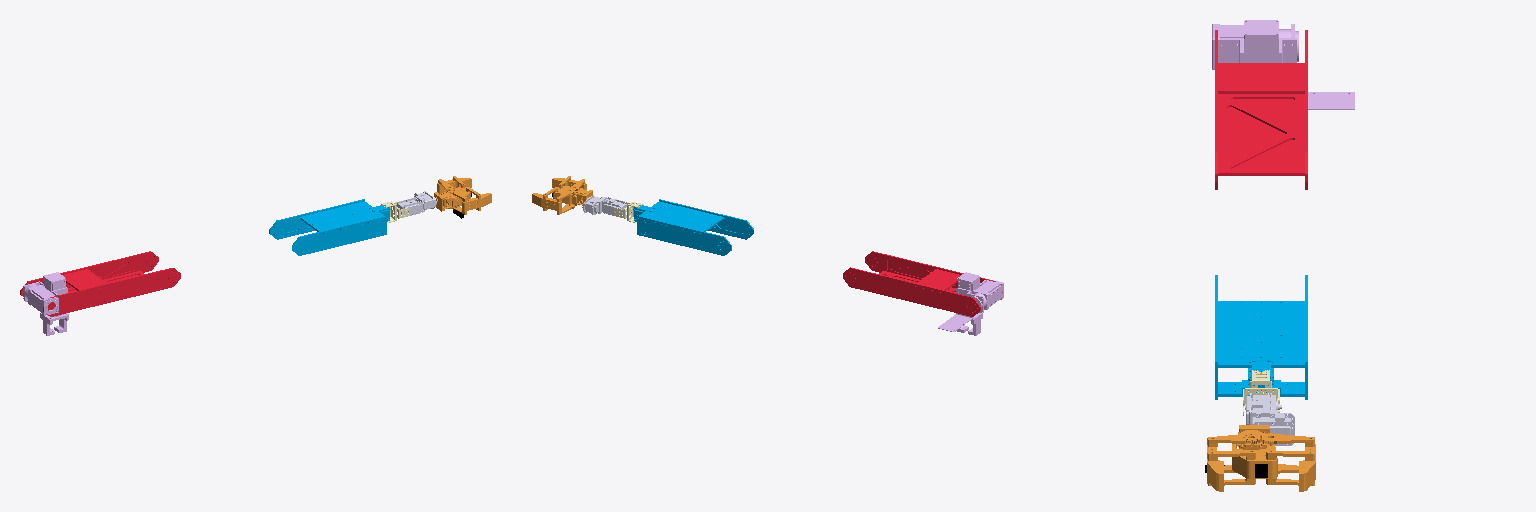
The robot description file, URDF, robot "doppel":
<?xml version="1.0" ?>
<!-- =================================================================================== -->
<!-- |    This document was autogenerated by xacro from [local-path]/ros/workspaces/kinetic/quix/src/doppel_description/urdf/doppel_robot.urdf.xacro | -->
<!-- |    EDITING THIS FILE BY HAND IS NOT RECOMMENDED                                 | -->
<!-- =================================================================================== -->
<robot name="doppel" xmlns:xacro="http://ros.org/wiki/xacro">
  <material name="Black">
    <color rgba="0.0 0.0 0.0 1.0"/>
  </material>
  <material name="Blue">
    <color rgba="0.0 0.0 0.8 1.0"/>
  </material>
  <material name="Green">
    <color rgba="0.0 0.8 0.0 1.0"/>
  </material>
  <material name="Grey">
    <color rgba="0.5 0.5 0.5 1.0"/>
  </material>
  <material name="LightGrey">
    <color rgba="0.7 0.7 0.7 1.0"/>
  </material>
  <material name="DarkGrey">
    <color rgba="0.3 0.3 0.3 1.0"/>
  </material>
  <material name="SlateGrey">
    <color rgba="0.44 0.5 0.56 1.0"/>
  </material>
  <material name="SteelBlue">
    <color rgba="0.27 0.51 0.71 1.0"/>
  </material>
  <material name="LightSteelBlue">
    <color rgba="0.69 0.77 0.87 1.0"/>
  </material>
  <material name="Lavender">
    <color rgba="0.9 0.9 0.98 1.0"/>
  </material>
  <material name="Red">
    <color rgba="1.0 0.0 0.0 1.0"/>
  </material>
  <material name="Orange">
    <color rgba="1.0 0.5088 0.0468 1.0"/>
  </material>
  <material name="Magenta">
    <color rgba="1.0 0.0 1.0 1.0"/>
  </material>
  <material name="White">
    <color rgba="1.0 1.0 1.0 1.0"/>
  </material>
  <material name="Yellow">
    <color rgba="0.8 0.8 0.0 1.0"/>
  </material>
  <material name="DeepSkyBlue">
    <color rgba="0.0 0.749 1.0 1.0"/>
  </material>
  <material name="LightBlueGreen">
    <color rgba="0.49411764705882355 0.984313725490196 0.7019607843137254 1.0"/>
  </material>
  <material name="LightishRed">
    <color rgba="0.996078431372549 0.1843137254901961 0.2901960784313726 1.0"/>
  </material>
  <material name="Leaf">
    <color rgba="0.44313725490196076 0.6666666666666666 0.20392156862745098 1.0"/>
  </material>
  <material name="Pale">
    <color rgba="1.0 0.9764705882352941 0.8156862745098039 1.0"/>
  </material>
  <material name="LightOrange">
    <color rgba="0.9921568627450981 0.6666666666666666 0.2823529411764706 1.0"/>
  </material>
  <material name="LightLilac">
    <color rgba="0.9294117647058824 0.7843137254901961 1.0 1.0"/>
  </material>
  <link name="world"/>
  <joint name="world_joint" type="fixed">
    <origin rpy="0 0 0" xyz="0 0 0"/>
    <parent link="world"/>
    <child link="base_link"/>
  </joint>
  <gazebo>
    <plugin filename="libgazebo_ros_control.so" name="gazebo_ros_control">
      <robotNamespace>/</robotNamespace>
    </plugin>
  </gazebo>
  <link name="base_link">
    <inertial>
      <mass value="0.2337368"/>
      <origin xyz="0 0 0"/>
      <inertia ixx="0.00036578" ixy="0.0" ixz="0.0" iyy="0.00027028" iyz="0.0" izz="0.00019041"/>
    </inertial>
    <visual>
      <origin rpy="0 0 0" xyz="0 0 0"/>
      <geometry>
        <mesh filename="package://doppel_description/meshes/base.dae" scale="1 1 1"/>
      </geometry>
      <material name="LightLilac"/>
    </visual>
    <collision>
      <origin rpy="0 0 0" xyz="0 0 0"/>
      <geometry>
        <!-- TODO: Simpler collision shape -->
        <mesh filename="package://doppel_description/meshes/base.dae" scale="1 1 1"/>
      </geometry>
    </collision>
  </link>
  <gazebo reference="base_link">
    <mu1 value="0"/>
    <mu2 value="0"/>
    <kp value="1e8"/>
    <kd value="1.0"/>
    <fdir1 value="1 0 0"/>
    <minDepth>0.005</minDepth>
    <material>Gazebo/LightLilac</material>
    <turnGravityOff>false</turnGravityOff>
  </gazebo>
  <joint name="joint1" type="revolute">
    <parent link="base_link"/>
    <child link="link1"/>
    <origin rpy="0 0 3.14159265359" xyz="0 0 0.062"/>
    <axis xyz="0 0 1"/>
    <limit effort="44.7" lower="-3.14159265359" upper="3.14159265359" velocity="3.14159265359"/>
    <dynamics damping="1.0" friction="0.0"/>
  </joint>
  <transmission name="joint1_trans">
    <type>transmission_interface/SimpleTransmission</type>
    <joint name="joint1">
      <hardwareInterface>hardware_interface/PositionJointInterface</hardwareInterface>
    </joint>
    <actuator name="joint1_motor">
      <hardwareInterface>hardware_interface/PositionJointInterface</hardwareInterface>
      <mechanicalReduction>1</mechanicalReduction>
    </actuator>
  </transmission>
  <link name="link1">
    <inertial>
      <mass value="2.13134162"/>
      <origin xyz="0 0 0"/>
      <inertia ixx="0.01012037" ixy="0.00034081" ixz="0.00331148" iyy="0.01055121" iyz="0.00071657" izz="0.00237852"/>
    </inertial>
    <visual>
      <origin rpy="0 0 0" xyz="0 0 0"/>
      <geometry>
        <mesh filename="package://doppel_description/meshes/link1.dae" scale="1 1 1"/>
      </geometry>
      <material name="LightLilac"/>
    </visual>
    <collision>
      <origin rpy="0 0 0" xyz="0 0 0"/>
      <geometry>
        <!-- TODO: Simpler collision shape -->
        <mesh filename="package://doppel_description/meshes/link1.dae" scale="1 1 1"/>
      </geometry>
    </collision>
  </link>
  <gazebo reference="link1">
    <mu1 value="0"/>
    <mu2 value="0"/>
    <kp value="1e8"/>
    <kd value="1.0"/>
    <fdir1 value="1 0 0"/>
    <minDepth>0.005</minDepth>
    <material>Gazebo/LightLilac</material>
    <turnGravityOff>false</turnGravityOff>
  </gazebo>
  <joint name="joint2" type="revolute">
    <parent link="link1"/>
    <child link="link2"/>
    <origin rpy="-1.57079632679 0 3.14159265359" xyz="0.054 0 0.063"/>
    <axis xyz="0 0 1"/>
    <limit effort="44.7" lower="-3.14159265359" upper="0" velocity="3.14159265359"/>
    <dynamics damping="1.0" friction="0.0"/>
  </joint>
  <transmission name="joint2_trans">
    <type>transmission_interface/SimpleTransmission</type>
    <joint name="joint2">
      <hardwareInterface>hardware_interface/PositionJointInterface</hardwareInterface>
    </joint>
    <actuator name="joint2_motor">
      <hardwareInterface>hardware_interface/PositionJointInterface</hardwareInterface>
      <mechanicalReduction>1</mechanicalReduction>
    </actuator>
  </transmission>
  <link name="link2">
    <inertial>
      <mass value="1.14165583"/>
      <origin xyz="0.25 0 0"/>
      <inertia ixx="0.0045786" ixy="0.00179706" ixz="-2.524e-05" iyy="0.07792435" iyz="-1.69e-06" izz="0.07451121"/>
    </inertial>
    <visual>
      <origin rpy="0 0 0" xyz="0 0 0"/>
      <geometry>
        <mesh filename="package://doppel_description/meshes/link2.dae" scale="1 1 1"/>
      </geometry>
      <material name="LightishRed"/>
    </visual>
    <collision>
      <origin rpy="0 0 0" xyz="0 0 0"/>
      <geometry>
        <!-- TODO: Simpler collision shape -->
        <mesh filename="package://doppel_description/meshes/link2.dae" scale="1 1 1"/>
      </geometry>
    </collision>
  </link>
  <gazebo reference="link2">
    <mu1 value="0"/>
    <mu2 value="0"/>
    <kp value="1e8"/>
    <kd value="1.0"/>
    <fdir1 value="1 0 0"/>
    <minDepth>0.005</minDepth>
    <material>Gazebo/LightishRed</material>
    <turnGravityOff>false</turnGravityOff>
  </gazebo>
  <joint name="joint3" type="revolute">
    <parent link="link2"/>
    <child link="link3"/>
    <origin rpy="3.14159265359 0 0" xyz="0.435 0 0"/>
    <axis xyz="0 0 1"/>
    <limit effort="44.7" lower="-1.57079632679" upper="2.86" velocity="3.14159265359"/>
    <dynamics damping="1.0" friction="0.0"/>
  </joint>
  <transmission name="joint3_trans">
    <type>transmission_interface/SimpleTransmission</type>
    <joint name="joint3">
      <hardwareInterface>hardware_interface/PositionJointInterface</hardwareInterface>
    </joint>
    <actuator name="joint3_motor">
      <hardwareInterface>hardware_interface/PositionJointInterface</hardwareInterface>
      <mechanicalReduction>1</mechanicalReduction>
    </actuator>
  </transmission>
  <link name="link3">
    <inertial>
      <mass value="2.79024721"/>
      <origin xyz="0.25 0 0"/>
      <inertia ixx="0.00124106" ixy="0.0" ixz="0.00196671" iyy="0.16340234" iyz="0.0" izz="0.16349435"/>
    </inertial>
    <visual>
      <origin rpy="3.14159265359 0 0" xyz="0 0 0"/>
      <geometry>
        <mesh filename="package://doppel_description/meshes/link3.dae" scale="1 1 1"/>
      </geometry>
      <material name="Leaf"/>
    </visual>
    <collision>
      <origin rpy="3.14159265359 0 0" xyz="0 0 0"/>
      <geometry>
        <!-- TODO: Simpler collision shape -->
        <mesh filename="package://doppel_description/meshes/link3.dae" scale="1 1 1"/>
      </geometry>
    </collision>
  </link>
  <gazebo reference="link3">
    <mu1 value="0"/>
    <mu2 value="0"/>
    <kp value="1e8"/>
    <kd value="1.0"/>
    <fdir1 value="1 0 0"/>
    <minDepth>0.005</minDepth>
    <material>Gazebo/Leaf</material>
    <turnGravityOff>false</turnGravityOff>
  </gazebo>
  <joint name="joint4" type="revolute">
    <parent link="link3"/>
    <child link="link4"/>
    <origin rpy="3.14159265359 0 0" xyz="0.450 0 0"/>
    <axis xyz="0 0 1"/>
    <limit effort="44.7" lower="-2.33" upper="2.86" velocity="3.14159265359"/>
    <dynamics damping="1.0" friction="0.0"/>
  </joint>
  <transmission name="joint4_trans">
    <type>transmission_interface/SimpleTransmission</type>
    <joint name="joint4">
      <hardwareInterface>hardware_interface/PositionJointInterface</hardwareInterface>
    </joint>
    <actuator name="joint4_motor">
      <hardwareInterface>hardware_interface/PositionJointInterface</hardwareInterface>
      <mechanicalReduction>1</mechanicalReduction>
    </actuator>
  </transmission>
  <link name="link4">
    <inertial>
      <mass value="2.18514241"/>
      <origin xyz="0.15 0 0"/>
      <inertia ixx="0.00816433" ixy="-0.01841775" ixz="2.52e-06" iyy="0.10879096" iyz="0.0" izz="0.11044867"/>
    </inertial>
    <visual>
      <origin rpy="0 0 0" xyz="0 0 0"/>
      <geometry>
        <mesh filename="package://doppel_description/meshes/link4.dae" scale="1 1 1"/>
      </geometry>
      <material name="DeepSkyBlue"/>
    </visual>
    <collision>
      <origin rpy="0 0 0" xyz="0 0 0"/>
      <geometry>
        <!-- TODO: Simpler collision shape -->
        <mesh filename="package://doppel_description/meshes/link4.dae" scale="1 1 1"/>
      </geometry>
    </collision>
  </link>
  <gazebo reference="link4">
    <mu1 value="0"/>
    <mu2 value="0"/>
    <kp value="1e8"/>
    <kd value="1.0"/>
    <fdir1 value="1 0 0"/>
    <minDepth>0.005</minDepth>
    <material>Gazebo/DeepSkyBlue</material>
    <turnGravityOff>false</turnGravityOff>
  </gazebo>
  <joint name="velodyne_base_mount_joint" type="fixed">
    <origin rpy="1.57079632679 0 0" xyz="0.23 -0.03 0"/>
    <parent link="link4"/>
    <child link="velodyne_base_link"/>
  </joint>
  <link name="velodyne_base_link">
    <inertial>
      <mass value="0.83"/>
      <origin xyz="0 0 0.03585"/>
      <inertia ixx="0.000908059425" ixy="0" ixz="0" iyy="0.000908059425" iyz="0" izz="0.0011049624"/>
    </inertial>
    <visual>
      <geometry>
        <mesh filename="package://velodyne_description/meshes/VLP16_base_1.dae"/>
      </geometry>
    </visual>
    <visual>
      <geometry>
        <mesh filename="package://velodyne_description/meshes/VLP16_base_2.dae"/>
      </geometry>
    </visual>
    <collision>
      <origin rpy="0 0 0" xyz="0 0 0.03585"/>
      <geometry>
        <cylinder length="0.0717" radius="0.0516"/>
      </geometry>
    </collision>
  </link>
  <joint name="velodyne_base_scan_joint" type="fixed">
    <origin rpy="0 0 0" xyz="0 0 0.0377"/>
    <parent link="velodyne_base_link"/>
    <child link="velodyne"/>
  </joint>
  <link name="velodyne">
    <inertial>
      <mass value="0.01"/>
      <origin xyz="0 0 0"/>
      <inertia ixx="1e-7" ixy="0" ixz="0" iyy="1e-7" iyz="0" izz="1e-7"/>
    </inertial>
    <visual>
      <origin xyz="0 0 -0.0377"/>
      <geometry>
        <mesh filename="package://velodyne_description/meshes/VLP16_scan.dae"/>
      </geometry>
    </visual>
  </link>
  <!-- Gazebo requires the velodyne_gazebo_plugins package -->
  <gazebo reference="velodyne">
    <sensor name="velodyne-VLP16" type="ray">
      <pose>0 0 0 0 0 0</pose>
      <visualize>false</visualize>
      <update_rate>10</update_rate>
      <ray>
        <scan>
          <horizontal>
            <samples>440</samples>
            <resolution>1</resolution>
            <min_angle>-3.14159265359</min_angle>
            <max_angle>3.14159265359</max_angle>
          </horizontal>
          <vertical>
            <samples>16</samples>
            <resolution>1</resolution>
            <min_angle>-0.261799387799</min_angle>
            <max_angle> 0.261799387799</max_angle>
          </vertical>
        </scan>
        <range>
          <min>0.3</min>
          <max>131.0</max>
          <resolution>0.001</resolution>
        </range>
        <noise>
          <type>gaussian</type>
          <mean>0.0</mean>
          <stddev>0.0</stddev>
        </noise>
      </ray>
      <plugin filename="libgazebo_ros_velodyne_laser.so" name="gazebo_ros_laser_controller">
        <topicName>velodyne_points</topicName>
        <frameName>velodyne</frameName>
        <min_range>0.9</min_range>
        <max_range>130.0</max_range>
        <gaussianNoise>0.008</gaussianNoise>
      </plugin>
    </sensor>
  </gazebo>
  <joint name="joint5" type="revolute">
    <parent link="link4"/>
    <child link="link5"/>
    <origin rpy="-1.57079632679 0 0" xyz="0.340 -0.004 0"/>
    <axis xyz="0 0 1"/>
    <limit effort="10.9" lower="-1.57079632679" upper="1.57079632679" velocity="3.14159265359"/>
    <dynamics damping="1.0" friction="0.0"/>
  </joint>
  <transmission name="joint5_trans">
    <type>transmission_interface/SimpleTransmission</type>
    <joint name="joint5">
      <hardwareInterface>hardware_interface/PositionJointInterface</hardwareInterface>
    </joint>
    <actuator name="joint5_motor">
      <hardwareInterface>hardware_interface/PositionJointInterface</hardwareInterface>
      <mechanicalReduction>1</mechanicalReduction>
    </actuator>
  </transmission>
  <link name="link5">
    <inertial>
      <mass value="0.03886738"/>
      <origin xyz="0 0 0"/>
      <inertia ixx="2.242e-05" ixy="0.0" ixz="0.0" iyy="7.053e-05" iyz="0.0" izz="7.053e-05"/>
    </inertial>
    <visual>
      <origin rpy="0 0 0" xyz="0 0 0"/>
      <geometry>
        <mesh filename="package://doppel_description/meshes/link5.dae" scale="1 1 1"/>
      </geometry>
      <material name="Pale"/>
    </visual>
    <collision>
      <origin rpy="0 0 0" xyz="0 0 0"/>
      <geometry>
        <!-- TODO: Simpler collision shape -->
        <mesh filename="package://doppel_description/meshes/link5.dae" scale="1 1 1"/>
      </geometry>
    </collision>
  </link>
  <gazebo reference="link5">
    <mu1 value="0"/>
    <mu2 value="0"/>
    <kp value="1e8"/>
    <kd value="1.0"/>
    <fdir1 value="1 0 0"/>
    <minDepth>0.005</minDepth>
    <material>Gazebo/Pale</material>
    <turnGravityOff>false</turnGravityOff>
  </gazebo>
  <joint name="joint6" type="revolute">
    <parent link="link5"/>
    <child link="link6"/>
    <origin rpy="1.57079632679 0 0" xyz="0.072 0 0"/>
    <axis xyz="0 0 1"/>
    <limit effort="10.9" lower="-1.57079632679" upper="1.57079632679" velocity="3.14159265359"/>
    <dynamics damping="1.0" friction="0.0"/>
  </joint>
  <transmission name="joint6_trans">
    <type>transmission_interface/SimpleTransmission</type>
    <joint name="joint6">
      <hardwareInterface>hardware_interface/PositionJointInterface</hardwareInterface>
    </joint>
    <actuator name="joint6_motor">
      <hardwareInterface>hardware_interface/PositionJointInterface</hardwareInterface>
      <mechanicalReduction>1</mechanicalReduction>
    </actuator>
  </transmission>
  <link name="link6">
    <inertial>
      <mass value="0.33654122"/>
      <origin xyz="0.05 0 0"/>
      <inertia ixx="3.04e-05" ixy="0.0" ixz="0.00012974" iyy="0.00085174" iyz="0.0" izz="0.00083169"/>
    </inertial>
    <visual>
      <origin rpy="0 0 0" xyz="0 0 0"/>
      <geometry>
        <mesh filename="package://doppel_description/meshes/link6.dae" scale="1 1 1"/>
      </geometry>
      <material name="Lavender"/>
    </visual>
    <collision>
      <origin rpy="0 0 0" xyz="0 0 0"/>
      <geometry>
        <!-- TODO: Simpler collision shape -->
        <mesh filename="package://doppel_description/meshes/link6.dae" scale="1 1 1"/>
      </geometry>
    </collision>
  </link>
  <gazebo reference="link6">
    <mu1 value="0"/>
    <mu2 value="0"/>
    <kp value="1e8"/>
    <kd value="1.0"/>
    <fdir1 value="1 0 0"/>
    <minDepth>0.005</minDepth>
    <material>Gazebo/Lavender</material>
    <turnGravityOff>false</turnGravityOff>
  </gazebo>
  <joint name="joint7" type="revolute">
    <parent link="link6"/>
    <child link="link7"/>
    <origin rpy="0 1.57079632679 0" xyz="0.109 0 0"/>
    <axis xyz="0 0 1"/>
    <limit effort="10.9" lower="-3.14159265359" upper="3.14159265359" velocity="3.14159265359"/>
    <dynamics damping="1.0" friction="0.0"/>
  </joint>
  <transmission name="joint7_trans">
    <type>transmission_interface/SimpleTransmission</type>
    <joint name="joint7">
      <hardwareInterface>hardware_interface/PositionJointInterface</hardwareInterface>
    </joint>
    <actuator name="joint7_motor">
      <hardwareInterface>hardware_interface/PositionJointInterface</hardwareInterface>
      <mechanicalReduction>1</mechanicalReduction>
    </actuator>
  </transmission>
  <link name="link7">
    <inertial>
      <mass value="0.81594918"/>
      <origin xyz="0 0 0.05"/>
      <inertia ixx="0.00521117" ixy="0.0" ixz="-0.00019767" iyy="0.0070155" iyz="3.23e-06" izz="0.00208949"/>
    </inertial>
    <visual>
      <origin rpy="0 0 0" xyz="0 0 0"/>
      <geometry>
        <mesh filename="package://doppel_description/meshes/link7.dae" scale="1 1 1"/>
      </geometry>
      <material name="LightOrange"/>
    </visual>
    <collision>
      <origin rpy="0 0 0" xyz="0 0 0"/>
      <geometry>
        <!-- TODO: Simpler collision shape -->
        <mesh filename="package://doppel_description/meshes/link7.dae" scale="1 1 1"/>
      </geometry>
    </collision>
  </link>
  <gazebo reference="link7">
    <mu1 value="0"/>
    <mu2 value="0"/>
    <kp value="1e8"/>
    <kd value="1.0"/>
    <fdir1 value="1 0 0"/>
    <minDepth>0.005</minDepth>
    <material>Gazebo/LightOrange</material>
    <turnGravityOff>false</turnGravityOff>
  </gazebo>
  <joint name="grab_dummy" type="revolute">
    <parent link="link7"/>
    <child link="dummy"/>
    <origin rpy="0 0 0" xyz="0.06 0.03 0.05"/>
    <axis xyz="0 0 1"/>
    <limit effort="10.9" lower="-1.57079632679" upper="1.57079632679" velocity="3.14159265359"/>
    <dynamics damping="1.0" friction="0.0"/>
  </joint>
  <transmission name="grab_dummy_trans">
    <type>transmission_interface/SimpleTransmission</type>
    <joint name="grab_dummy">
      <hardwareInterface>hardware_interface/PositionJointInterface</hardwareInterface>
    </joint>
    <actuator name="grab_dummy_motor">
      <hardwareInterface>hardware_interface/PositionJointInterface</hardwareInterface>
      <mechanicalReduction>1</mechanicalReduction>
    </actuator>
  </transmission>
  <link name="dummy">
    <inertial>
      <mass value="0.001"/>
      <origin rpy="0 0 0" xyz="0 0 0"/>
      <inertia ixx="0" ixy="0" ixz="0" iyy="0" iyz="0" izz="0"/>
    </inertial>
    <visual>
      <origin rpy="0 0 0" xyz="0 0 0"/>
      <geometry>
        <box size="0.05 0.01 0.01"/>
      </geometry>
      <material name="Black"/>
    </visual>
    <collision>
      <origin rpy="0 0 0" xyz="0 0 0"/>
      <geometry>
        <box size="0.05 0.01 0.01"/>
      </geometry>
    </collision>
  </link>
  <gazebo reference="dummy">
    <mu1 value="0"/>
    <mu2 value="0"/>
    <kp value="1e8"/>
    <kd value="1.0"/>
    <fdir1 value="1 0 0"/>
    <minDepth>0.005</minDepth>
    <material>Gazebo/Black</material>
    <turnGravityOff>false</turnGravityOff>
  </gazebo>
  <joint name="to_hand_camera" type="fixed">
    <parent link="link7"/>
    <child link="hand_camera"/>
    <origin rpy="1.57079632679 -1.57079632679 0" xyz="0 0 0.12"/>
  </joint>
  <link name="hand_camera">
    <inertial>
      <mass value="0.001"/>
      <origin rpy="0 0 0" xyz="0 0 0"/>
      <inertia ixx="0" ixy="0" ixz="0" iyy="0" iyz="0" izz="0"/>
    </inertial>
    <visual>
      <origin rpy="0 0 0" xyz="0 0 0"/>
      <geometry>
        <box size="0.01 0.02 0.02"/>
      </geometry>
      <material name="Black"/>
    </visual>
    <collision>
      <origin rpy="0 0 0" xyz="0 0 0"/>
      <geometry>
        <box size="0.01 0.02 0.02"/>
      </geometry>
    </collision>
  </link>
  <gazebo reference="hand_camera">
    <mu1 value="0"/>
    <mu2 value="0"/>
    <kp value="1e8"/>
    <kd value="1.0"/>
    <fdir1 value="1 0 0"/>
    <minDepth>0.005</minDepth>
    <material>Gazebo/Black</material>
    <turnGravityOff>false</turnGravityOff>
  </gazebo>
  <!-- camera -->
  <gazebo reference="hand_camera">
    <sensor name="hand_camera" type="camera">
      <update_rate>30.0</update_rate>
      <camera name="hand_camera">
        <horizontal_fov>1.3962634</horizontal_fov>
        <image>
          <width>800</width>
          <height>800</height>
          <format>R8G8B8</format>
        </image>
        <clip>
          <near>0.02</near>
          <far>300</far>
        </clip>
        <noise>
          <type>gaussian</type>
          <!-- Noise is sampled independently per pixel on each frame.
                That pixel's noise value is added to each of its color
                channels, which at that point lie in the range [0,1]. -->
          <mean>0.0</mean>
          <stddev>0.007</stddev>
        </noise>
      </camera>
      <plugin filename="libgazebo_ros_camera.so" name="camera_controller">
        <alwaysOn>true</alwaysOn>
        <updateRate>5.0</updateRate>
        <cameraName>hand_camera</cameraName>
        <imageTopicName>image_raw</imageTopicName>
        <cameraInfoTopicName>camera_info</cameraInfoTopicName>
        <frameName>hand_camera</frameName>
        <hackBaseline>0.07</hackBaseline>
        <distortionK1>0.0</distortionK1>
        <distortionK2>0.0</distortionK2>
        <distortionK3>0.0</distortionK3>
        <distortionT1>0.0</distortionT1>
        <distortionT2>0.0</distortionT2>
      </plugin>
    </sensor>
  </gazebo>
</robot>

--- What the picture shows (computed from the rendered views, not written in the file) ---
3 views of the same robot in one strip: view 1: azimuth 30°, elevation 25°; view 2: azimuth 150°, elevation 25°; view 3: azimuth 270°, elevation 25° (orthographic).
Robot: doppel — 13 links, 12 joints (8 revolute, 4 fixed); root link world; default pose: every joint at zero.
Links seen in each view (by area): view 1: link2, link4, link7, link1, link6; view 2: link2, link4, link1, link7, link6; view 3: link2, link4, link7, link1, link6, link5.
Boxes of the visible links, <box> form: link2: <box>20,251,180,316</box>; link4: <box>269,199,390,255</box>; link7: <box>434,176,491,214</box>; link1: <box>23,272,67,316</box>; link6: <box>396,191,436,215</box>; link2: <box>843,251,1002,316</box>; link4: <box>633,199,753,255</box>; link1: <box>938,272,1003,331</box>; link7: <box>532,176,592,214</box>; link6: <box>583,195,626,215</box>; link2: <box>1215,30,1307,189</box>; link4: <box>1215,275,1307,399</box>; link7: <box>1207,425,1315,491</box>; link1: <box>1212,20,1354,109</box>; link6: <box>1245,393,1294,445</box>; link5: <box>1243,370,1279,415</box>.
Bounding box of the posed robot: 1.6 × 0.227 × 0.1864 m (x, y, z).
Meshes: 11 distinct files referenced, 7 mesh visuals loaded (7 Collada DAE); not drawn: 4 (reference not matched to a file when rendering).
